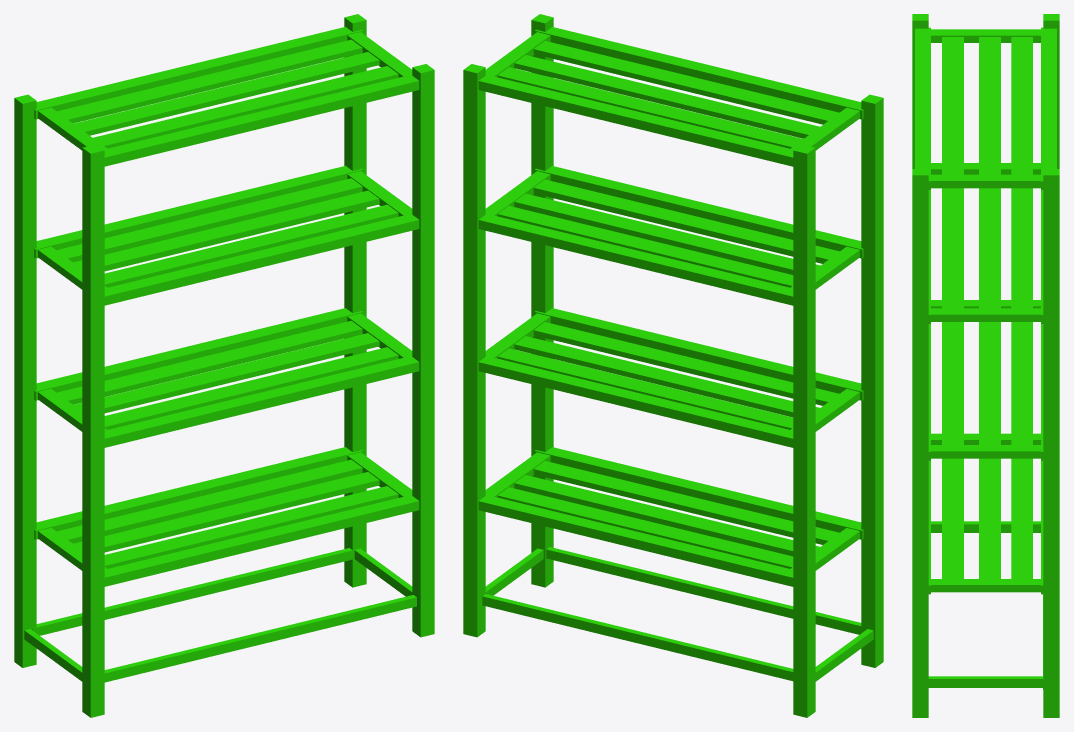
The model's file is Cupboard_15_Lod0.fbx.
3 renders of one model, left to right at view 1: azimuth 30°, elevation 25°; view 2: azimuth 150°, elevation 25°; view 3: azimuth 270°, elevation 25°, orthographic. The views are drawn at different scales.
Visible parts, largest first — view 1: Cupboard_15_Lod0; view 2: Cupboard_15_Lod0; view 3: Cupboard_15_Lod0.
Boxes of the visible parts, x1,y1,x2,y2 form: Cupboard_15_Lod0: (14, 14, 434, 717); Cupboard_15_Lod0: (463, 14, 883, 717); Cupboard_15_Lod0: (912, 14, 1059, 717).
Size of the model in its own units: 136 by 214 by 52.46.
